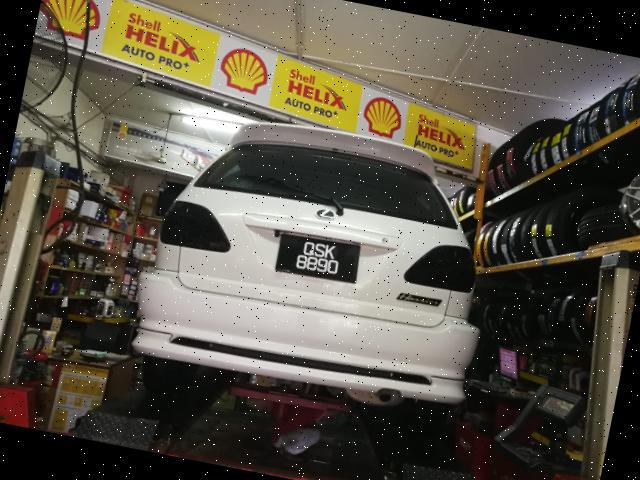License_Plate: (274, 233, 363, 285)
car: (114, 93, 510, 417)
